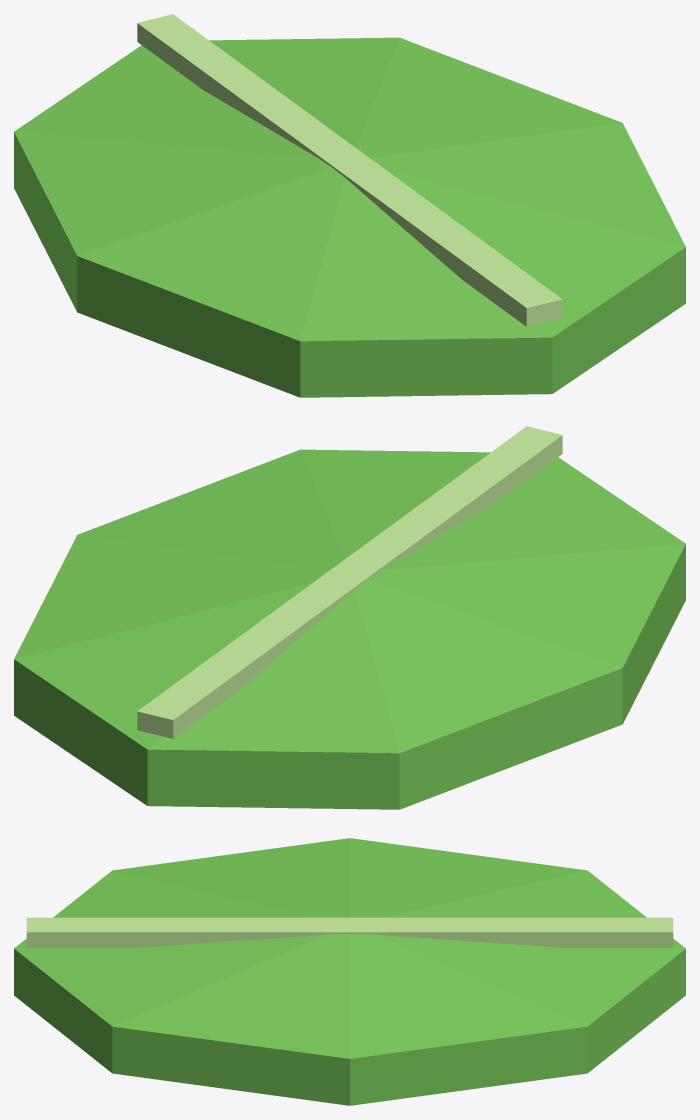
File: dog_lettuce.glb
3 views of the same model, one above another, from view 1: azimuth 30°, elevation 25°; view 2: azimuth 150°, elevation 25°; view 3: azimuth 270°, elevation 25° (orthographic). The views are drawn at different scales.
Parts seen in each view (by area): view 1: food_lettuce, food_lettuce_vein; view 2: food_lettuce, food_lettuce_vein; view 3: food_lettuce, food_lettuce_vein.
Boxes of the visible parts, x1,y1,x2,y2 form: food_lettuce: (14, 37, 685, 397); food_lettuce_vein: (137, 14, 562, 326); food_lettuce: (14, 449, 685, 809); food_lettuce_vein: (137, 426, 562, 738); food_lettuce: (14, 838, 685, 1105); food_lettuce_vein: (26, 917, 673, 947).
Size of the model in its own units: 0.1212 by 0.024 by 0.1559.
